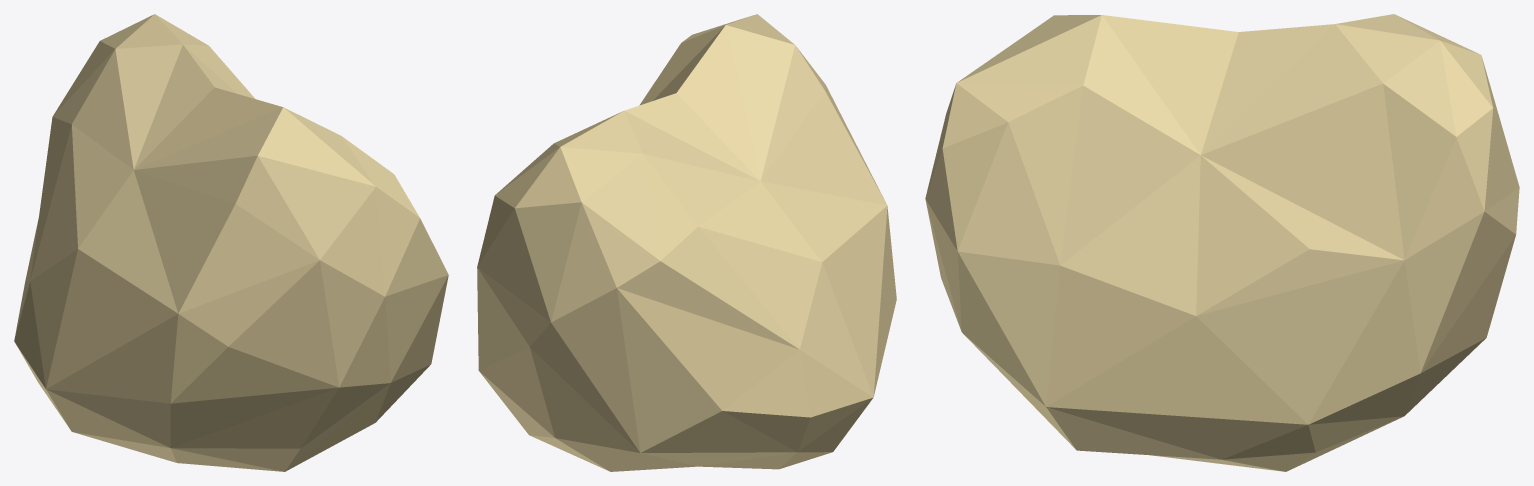
The model's file is Rock (27).fbx.
The picture shows the model from 3 angles, left to right: view 1: azimuth 30°, elevation 25°; view 2: azimuth 150°, elevation 25°; view 3: azimuth 270°, elevation 25°; orthographic projection. The views are drawn at different scales.
Visible parts, largest first — view 1: Asteroid26; view 2: Asteroid26; view 3: Asteroid26.
Part boxes in pixels (left/top/right/bottom): Asteroid26: left=14, top=14, right=448, bottom=471; Asteroid26: left=477, top=14, right=896, bottom=471; Asteroid26: left=925, top=14, right=1519, bottom=471.
Bounding box in the file's own units: 190 × 201 × 262.
